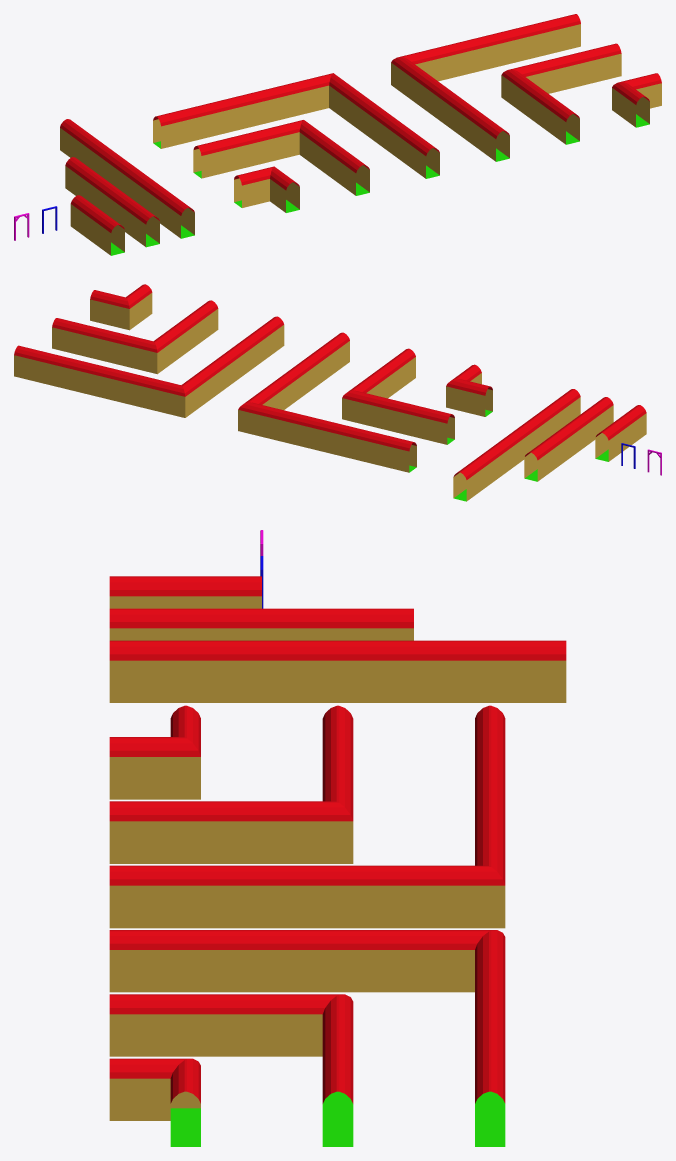
The model's file is Tunnels.fbx.
3 views of the same model, one above another, from view 1: azimuth 30°, elevation 25°; view 2: azimuth 150°, elevation 25°; view 3: azimuth 270°, elevation 25° (orthographic). The views are drawn at different scales.
Visible parts, largest first — view 1: Large Tunnel L, Large Tunnel R, Medium Tunnel L, Medium Tunnel R, Large Tunnel, Medium Tunnel, Small Tunnel L, Small Tunnel R, Small Tunnel; view 2: Large Tunnel R, Large Tunnel L, Medium Tunnel R, Medium Tunnel L, Large Tunnel, Medium Tunnel, Small Tunnel R, Small Tunnel L, Small Tunnel; view 3: Large Tunnel L, Large Tunnel R, Large Tunnel, Medium Tunnel L, Medium Tunnel R, Medium Tunnel, Small Tunnel L, Small Tunnel R, Small Tunnel.
Part boxes in pixels (<box>): Large Tunnel L: <box>153,73,439,178</box>; Large Tunnel R: <box>391,14,580,161</box>; Medium Tunnel L: <box>193,120,369,195</box>; Medium Tunnel R: <box>501,43,621,144</box>; Large Tunnel: <box>60,119,194,238</box>; Medium Tunnel: <box>65,157,159,247</box>; Small Tunnel L: <box>234,166,299,212</box>; Small Tunnel R: <box>612,73,661,127</box>; Small Tunnel: <box>70,195,124,255</box>; Large Tunnel R: <box>14,316,284,417</box>; Large Tunnel L: <box>238,332,416,472</box>; Medium Tunnel R: <box>52,300,218,374</box>; Medium Tunnel L: <box>342,348,454,444</box>; Large Tunnel: <box>453,389,580,501</box>; Medium Tunnel: <box>524,397,613,481</box>; Small Tunnel R: <box>90,284,152,330</box>; Small Tunnel L: <box>446,364,492,416</box>; Small Tunnel: <box>595,405,646,461</box>; Large Tunnel L: <box>109,705,505,928</box>; Large Tunnel R: <box>109,930,505,1146</box>; Large Tunnel: <box>109,640,566,702</box>; Medium Tunnel L: <box>109,705,353,863</box>; Medium Tunnel R: <box>109,994,353,1146</box>; Medium Tunnel: <box>109,608,413,640</box>; Small Tunnel L: <box>109,705,200,799</box>; Small Tunnel R: <box>109,1058,200,1146</box>; Small Tunnel: <box>109,576,261,608</box>.
Bounding box in the file's own units: 8906 × 410 × 3000.
